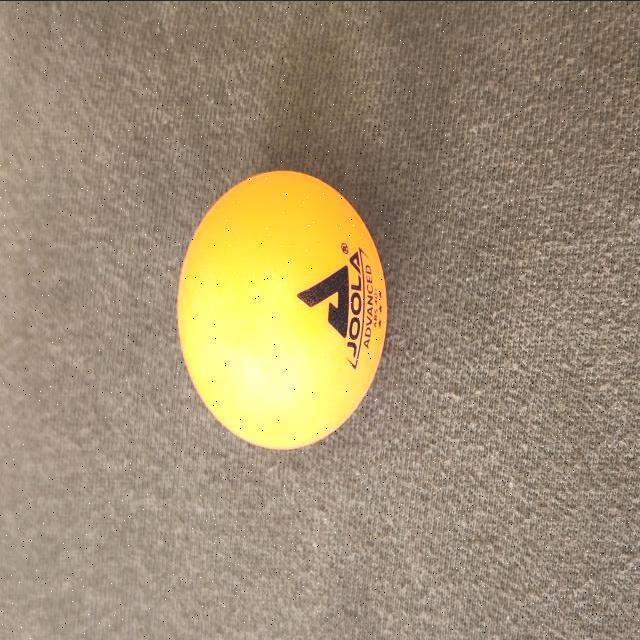ping-pong-ball: (172, 152, 390, 458)
